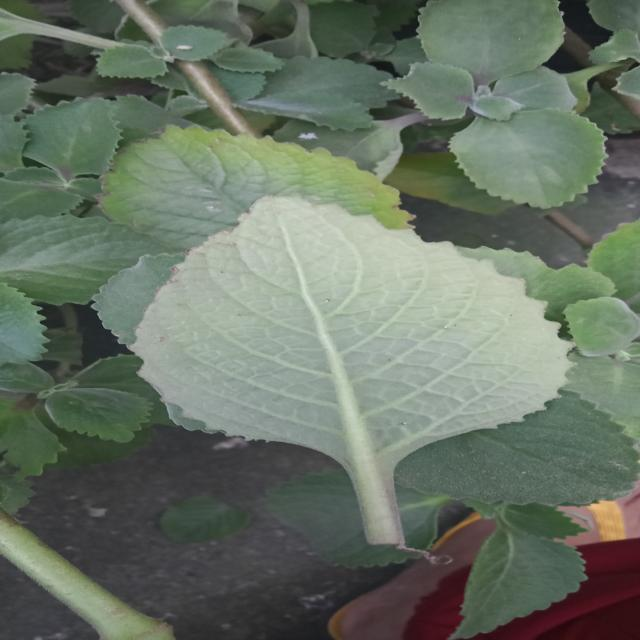Oregano: (124, 177, 616, 512)
